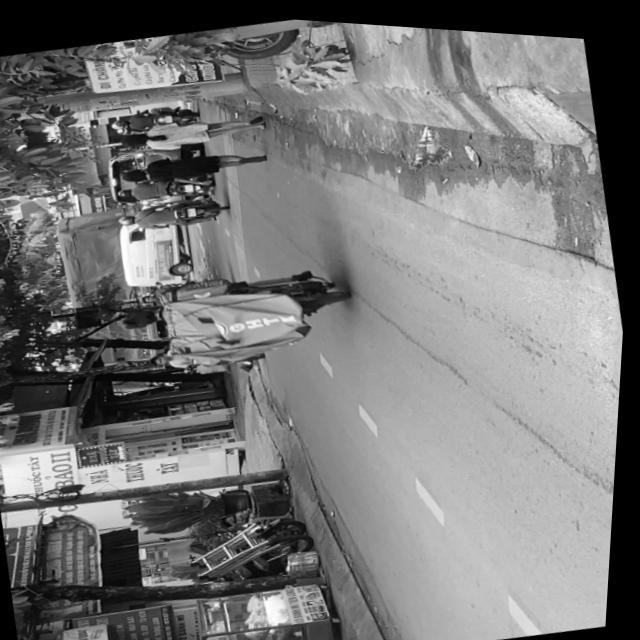licenseplate: (110, 242, 366, 387)
motorcyclist: (120, 298, 173, 335)
